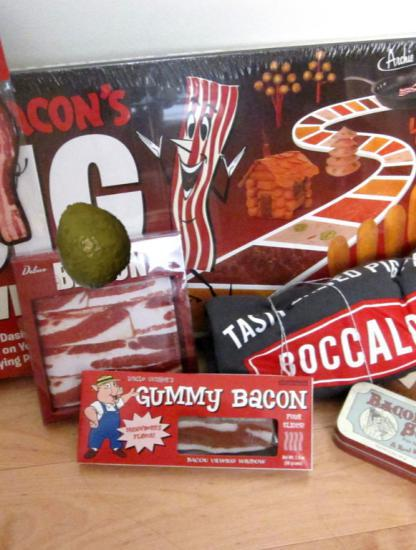Guava: (47, 199, 136, 288)
